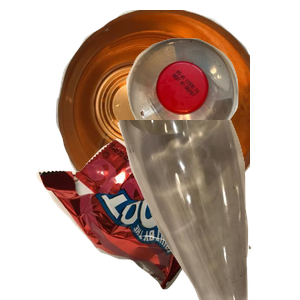glass: (115, 120, 300, 300)
metal: (53, 10, 293, 190)
plastic: (124, 36, 300, 175)
trash: (34, 136, 253, 300)
